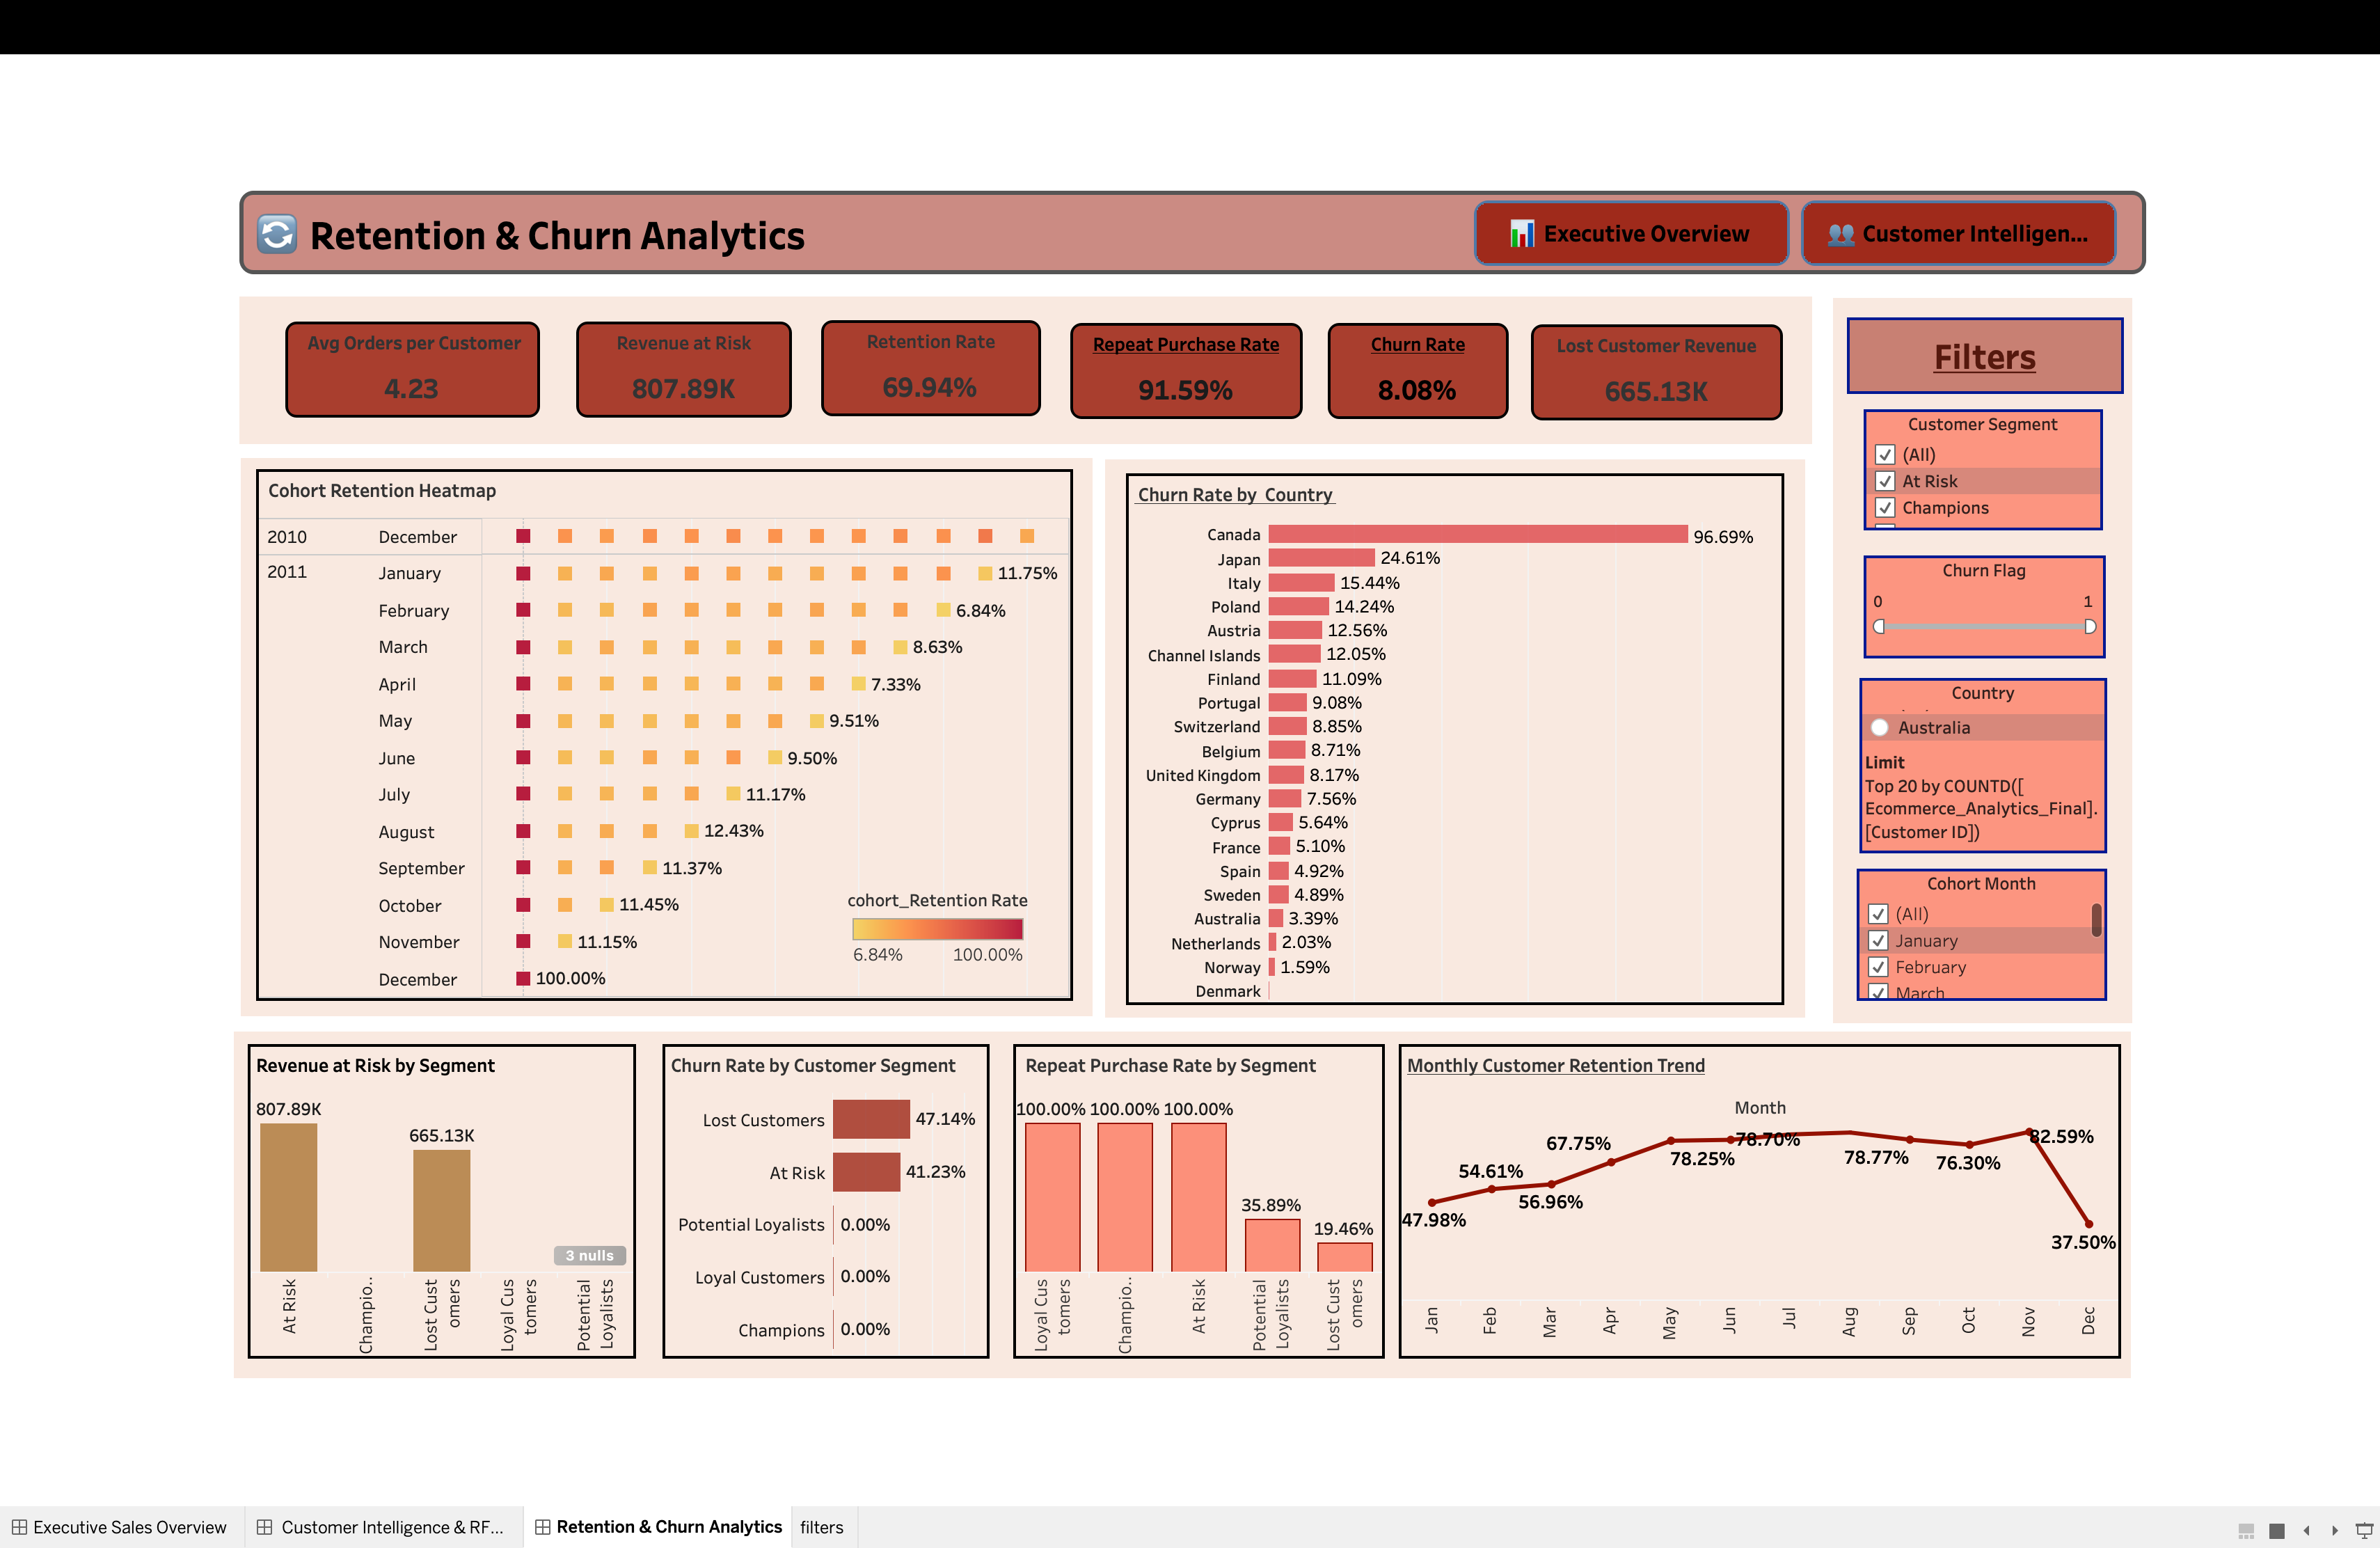

The page's visual inventory and layout, read from the dashboard file:
{"tool":"tableau","page":{"name":"Retention & Churn Analytics","canvas":[1400,900],"ordinal":2},"visuals":[{"type":"text","box":[17,27,1370,60]},{"type":"dashboard-object","box":[904,34,227,47]},{"type":"dashboard-object","box":[1139,34,227,47]},{"type":"text","box":[1172,118,199,55]},{"type":"worksheet","title":"Retention Rate","mark":"Automatic","box":[435,120,158,69]},{"type":"worksheet","title":" Avg Orders per Customer","mark":"Automatic","box":[50,121,183,69]},{"type":"worksheet","title":"Revenue at Risk","mark":"Automatic","box":[259,121,155,69]},{"type":"worksheet","title":"Repeat Purchase Rate","mark":"Automatic","box":[614,122,167,69]},{"type":"worksheet","title":"Churn Rate","mark":"Automatic","box":[799,122,130,69]},{"type":"worksheet","title":"Lost Customer Revenue","mark":"Automatic","box":[945,123,181,69]},{"type":"filter","title":"Churn Rate","param":"[federated.11u8c6i09q789q15xwu8w1mmap02].[none:Customer_Segment:nk]","box":[1184,184,172,87]},{"type":"worksheet","title":" Cohort Retention Heatmap","mark":"Square","rows":["Calculation_3218766294069253","Calculation_3218766294069253"],"cols":["Calculation_3218766294605831"],"box":[29,227,587,382]},{"type":"worksheet","title":"Churn Rate by Country","mark":"Automatic","rows":["Country"],"cols":["Churn_Flag"],"box":[654,230,473,382]},{"type":"filter","title":"Churn Rate","param":"[federated.11u8c6i09q789q15xwu8w1mmap02].[none:Churn_Flag:qk]","box":[1184,289,174,74]},{"type":"filter","title":"Churn Rate","param":"[federated.11u8c6i09q789q15xwu8w1mmap02].[none:Country:nk]","box":[1181,377,178,126]},{"type":"filter","title":" Revenue at Risk by Segment","param":"[federated.11u8c6i09q789q15xwu8w1mmap02].[mn:Calculation_3218766294069253:ok]","box":[1179,514,180,95]},{"type":"legend","title":" Cohort Retention Heatmap","param":"[federated.11u8c6i09q789q15xwu8w1mmap02].[usr:Calculation_3218766295375882:qk]","box":[454,528,131,57]},{"type":"worksheet","title":" Revenue at Risk by Segment","mark":"Automatic","rows":["Calculation_3218766488408076"],"cols":["Customer_Segment"],"box":[23,640,279,226]},{"type":"worksheet","title":"Churn Rate by Customer Segment","mark":"Automatic","rows":["Customer_Segment"],"cols":["Churn_Flag"],"box":[321,640,235,226]},{"type":"worksheet","title":" Repeat Purchase Rate by Segment","mark":"Automatic","rows":["Calculation_1331727644880901"],"cols":["Customer_Segment"],"box":[573,640,267,226]},{"type":"worksheet","title":"Monthly Customer Retention Trend","mark":"Line","rows":["Calculation_3218766288371712"],"cols":["Month"],"box":[850,640,519,226]}]}

Visuals, with their boxes on the page's 1400x900 design canvas (x1, y1, x2, y2). These are canvas units, not pixel positions in the 2380x1548 screenshot, which may show the page scaled, cropped or inside an application window:
text: [x1=17, y1=27, x2=1387, y2=87]
dashboard-object: [x1=904, y1=34, x2=1131, y2=81]
dashboard-object: [x1=1139, y1=34, x2=1366, y2=81]
text: [x1=1172, y1=118, x2=1371, y2=173]
"Retention Rate" worksheet: [x1=435, y1=120, x2=593, y2=189]
" Avg Orders per Customer" worksheet: [x1=50, y1=121, x2=233, y2=190]
"Revenue at Risk" worksheet: [x1=259, y1=121, x2=414, y2=190]
"Repeat Purchase Rate" worksheet: [x1=614, y1=122, x2=781, y2=191]
"Churn Rate" worksheet: [x1=799, y1=122, x2=929, y2=191]
"Lost Customer Revenue" worksheet: [x1=945, y1=123, x2=1126, y2=192]
"Churn Rate" filter: [x1=1184, y1=184, x2=1356, y2=271]
" Cohort Retention Heatmap" worksheet (Square marks): [x1=29, y1=227, x2=616, y2=609]
"Churn Rate by Country" worksheet: [x1=654, y1=230, x2=1127, y2=612]
"Churn Rate" filter: [x1=1184, y1=289, x2=1358, y2=363]
"Churn Rate" filter: [x1=1181, y1=377, x2=1359, y2=503]
" Revenue at Risk by Segment" filter: [x1=1179, y1=514, x2=1359, y2=609]
" Cohort Retention Heatmap" legend: [x1=454, y1=528, x2=585, y2=585]
" Revenue at Risk by Segment" worksheet: [x1=23, y1=640, x2=302, y2=866]
"Churn Rate by Customer Segment" worksheet: [x1=321, y1=640, x2=556, y2=866]
" Repeat Purchase Rate by Segment" worksheet: [x1=573, y1=640, x2=840, y2=866]
"Monthly Customer Retention Trend" worksheet (Line marks): [x1=850, y1=640, x2=1369, y2=866]
